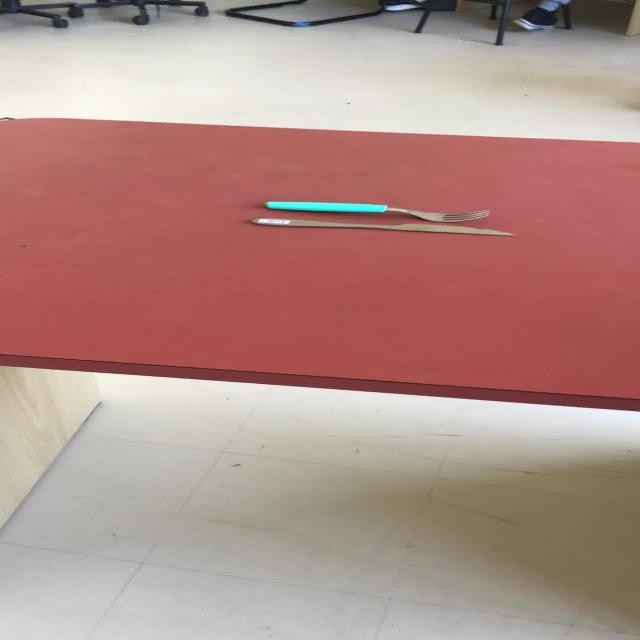fork: (263, 199, 490, 222)
knife fork: (248, 217, 515, 236)
